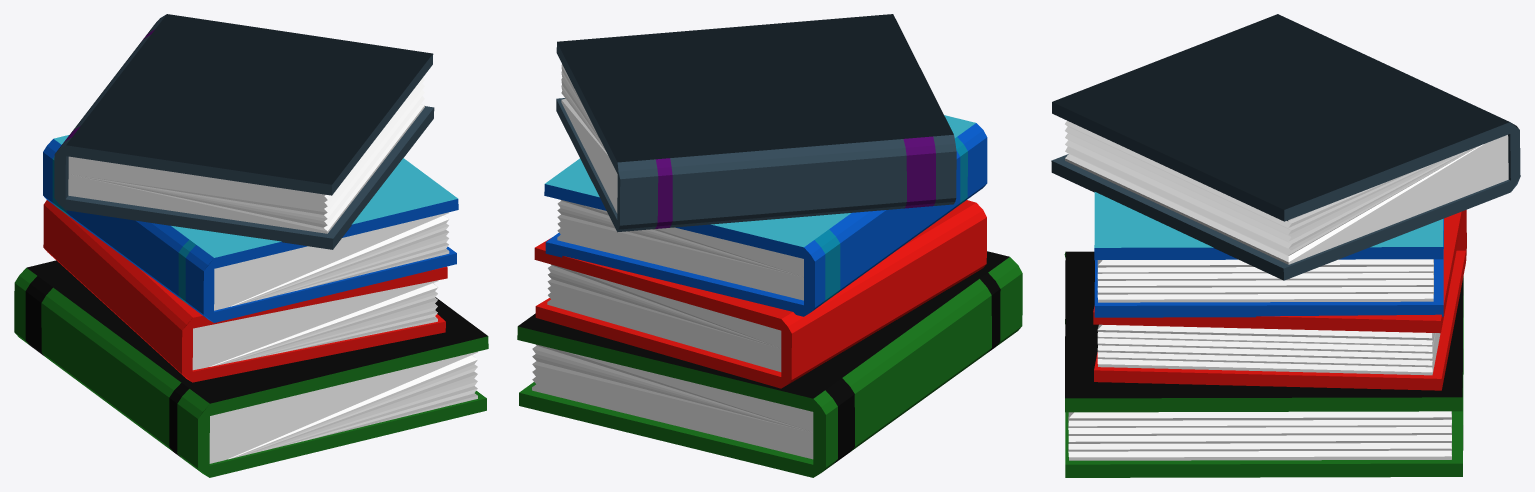
File: books.glb
3 renders of one model, left to right at view 1: azimuth 30°, elevation 25°; view 2: azimuth 150°, elevation 25°; view 3: azimuth 270°, elevation 25°, orthographic. The views are drawn at different scales.
Visible parts, largest first — view 1: books; view 2: books; view 3: books.
Part boxes in pixels (x1=…): books: x1=14, y1=14, x2=488, y2=477; books: x1=517, y1=14, x2=1022, y2=477; books: x1=1051, y1=14, x2=1520, y2=477.
Bounding box in the file's own units: 0.2167 × 0.15 × 0.2155.
